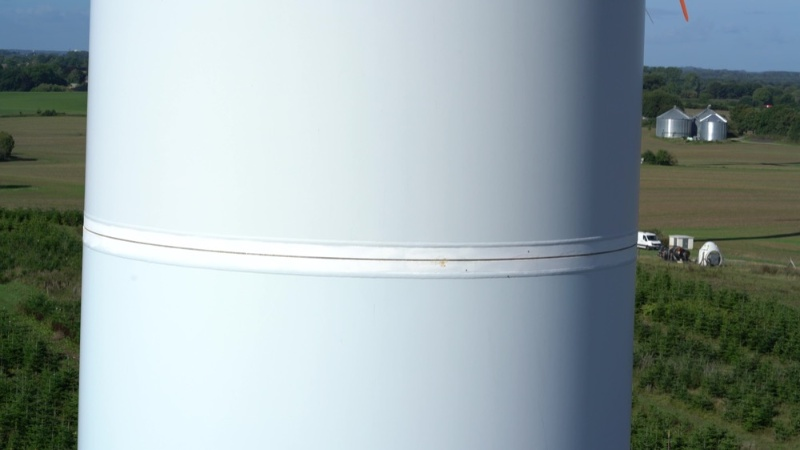weldseam: (82, 238, 638, 283), (79, 206, 638, 249)
